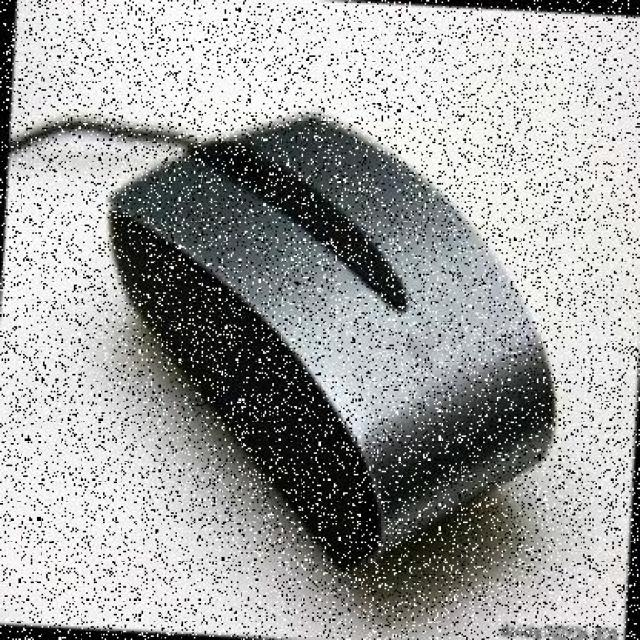mause: (82, 75, 580, 616)
